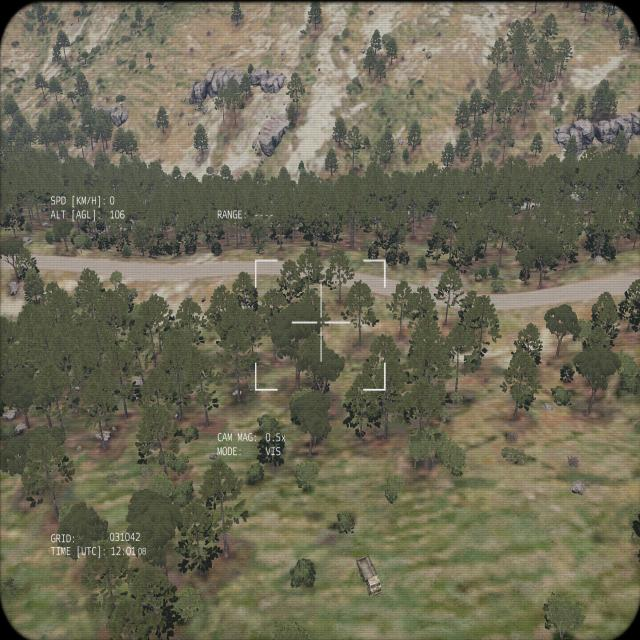truck: (355, 552, 383, 596)
